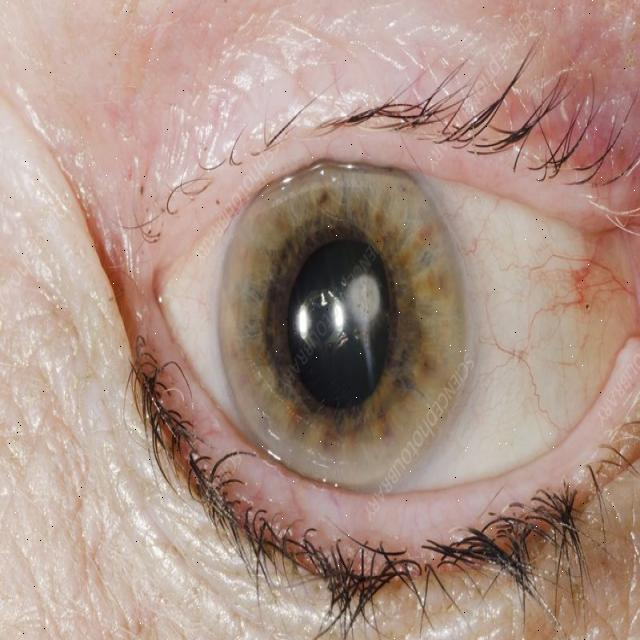Normal: (218, 147, 467, 505)
